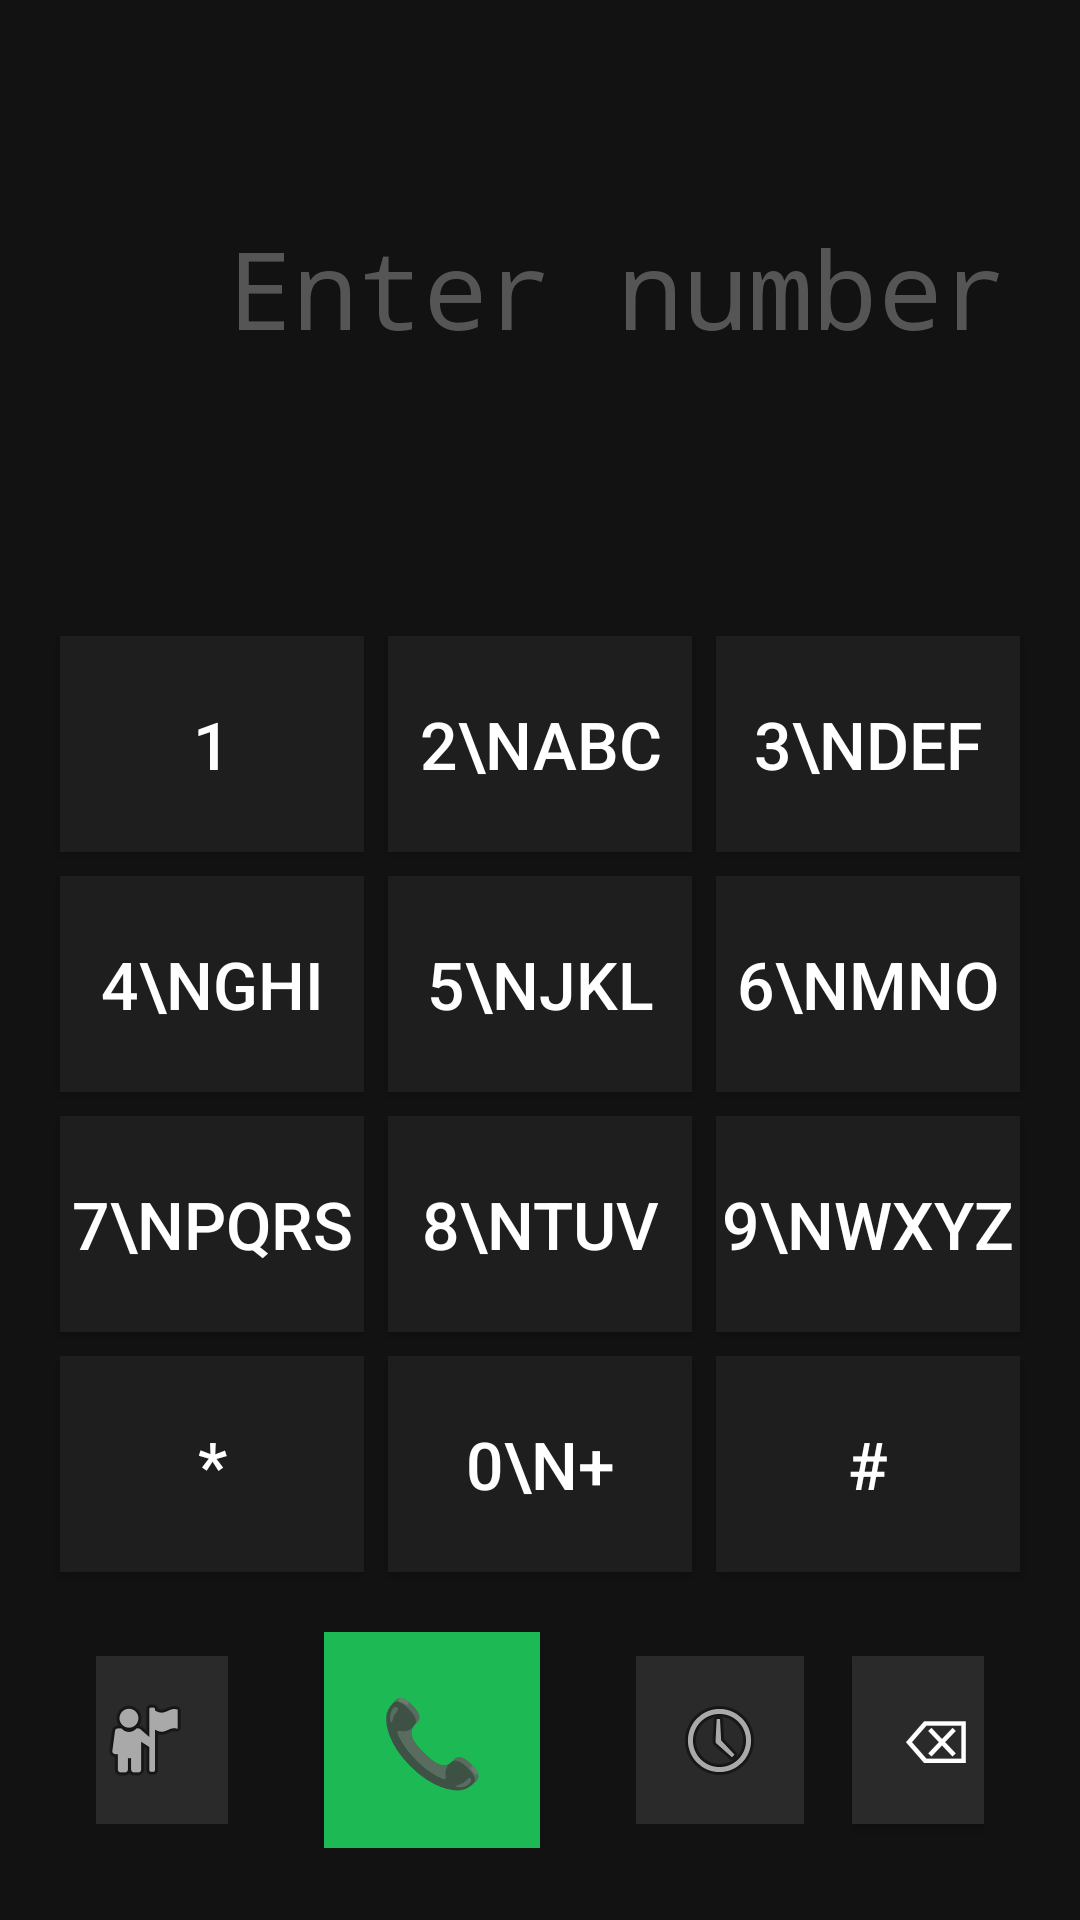

Where icons sit on this 1080 x 1920 app screen, as (x1,y1,x2,y2):
myplaces: (112,1707,178,1773)
